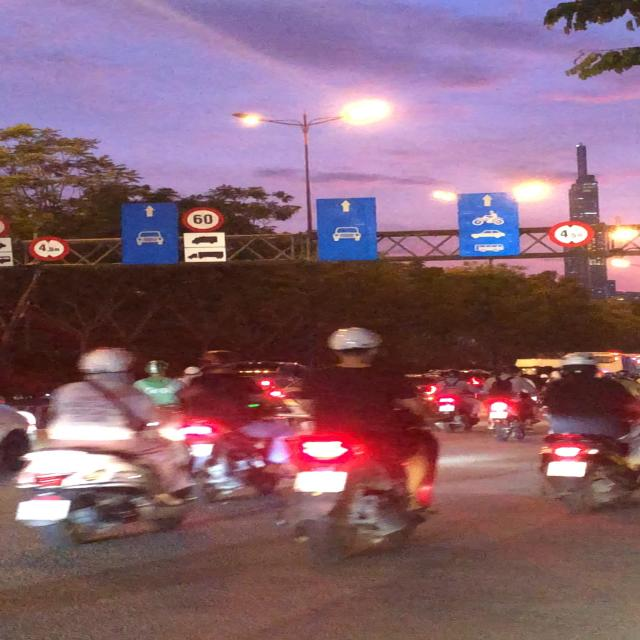Bien bao han che chieu cao: (546, 214, 602, 250), (20, 236, 87, 264)
Bien bao toc do toi da cho phep: (180, 204, 235, 232)
